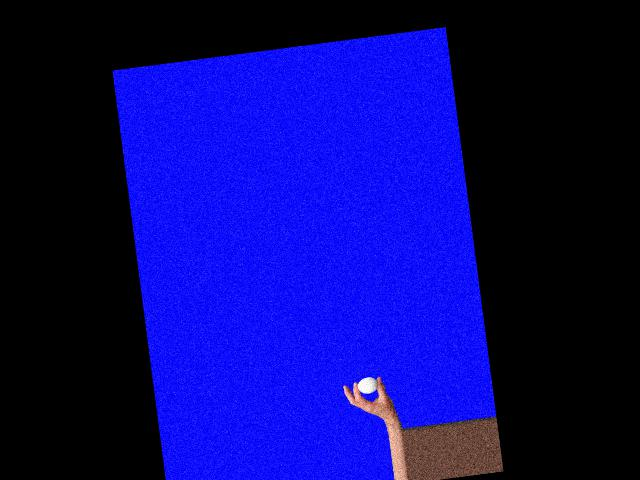egg: (356, 375, 379, 394)
